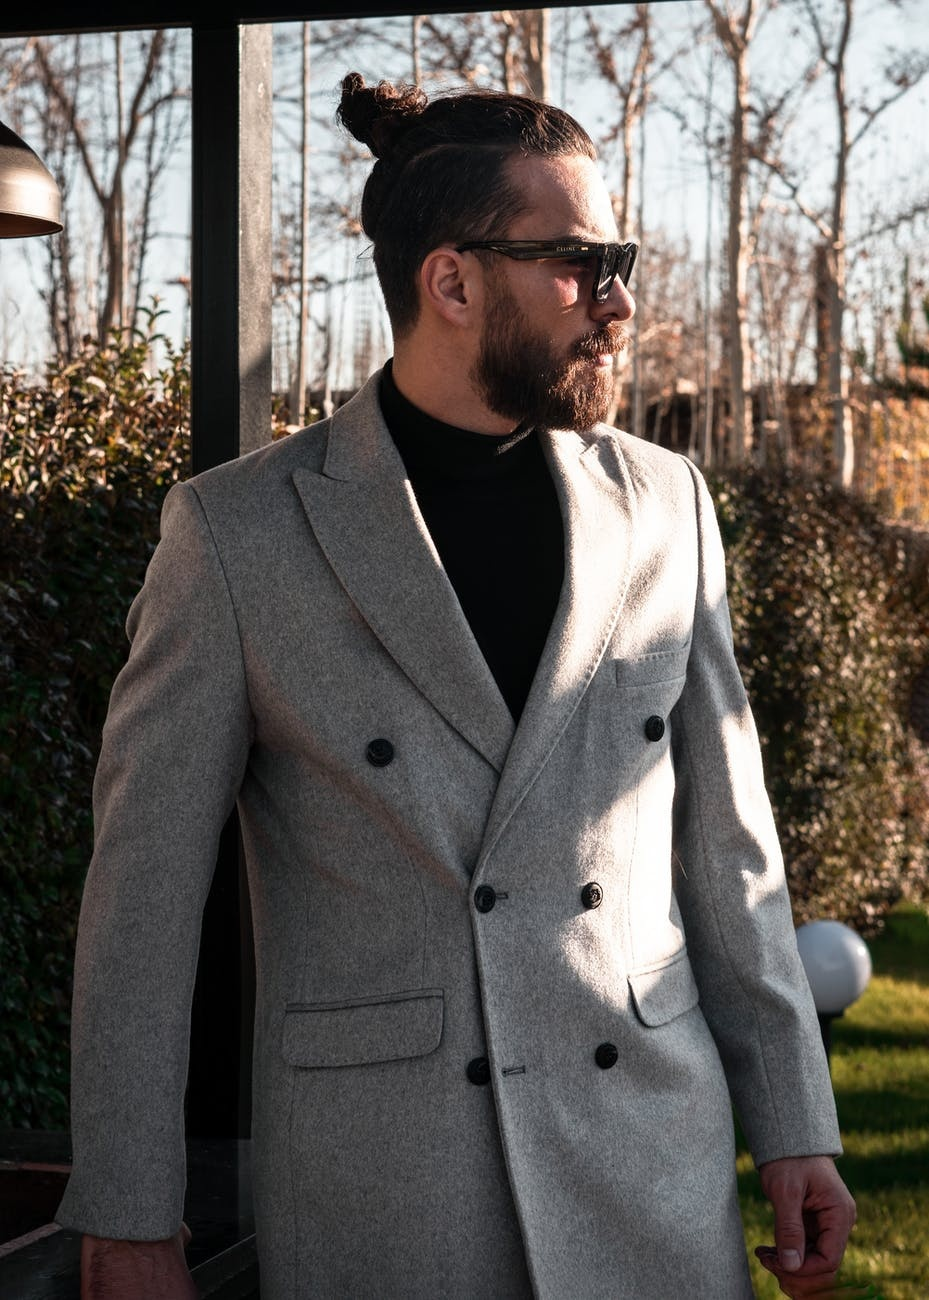mouth: (582, 347, 621, 365)
nose: (587, 295, 635, 324)
